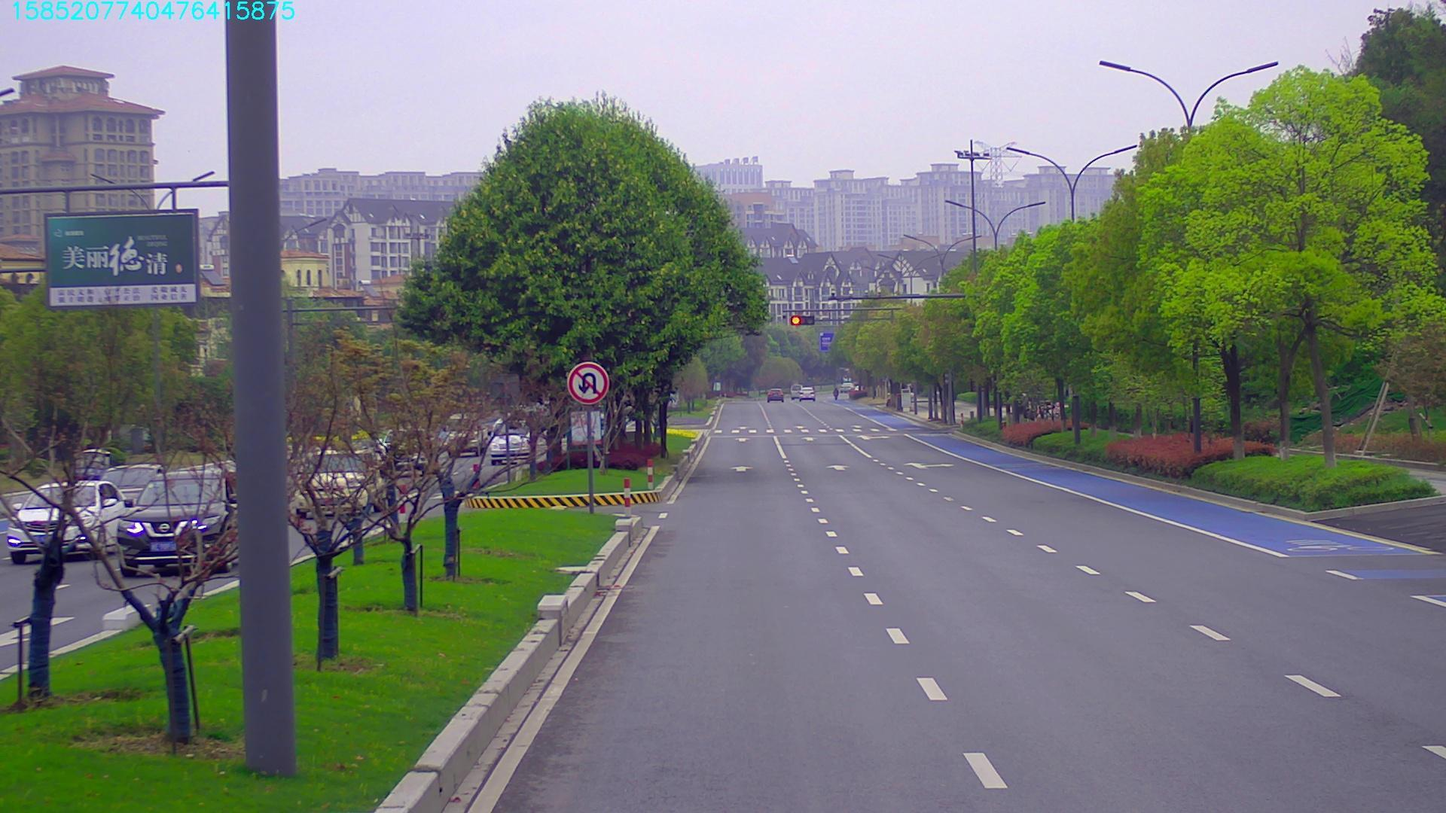red: (789, 312, 813, 324)
